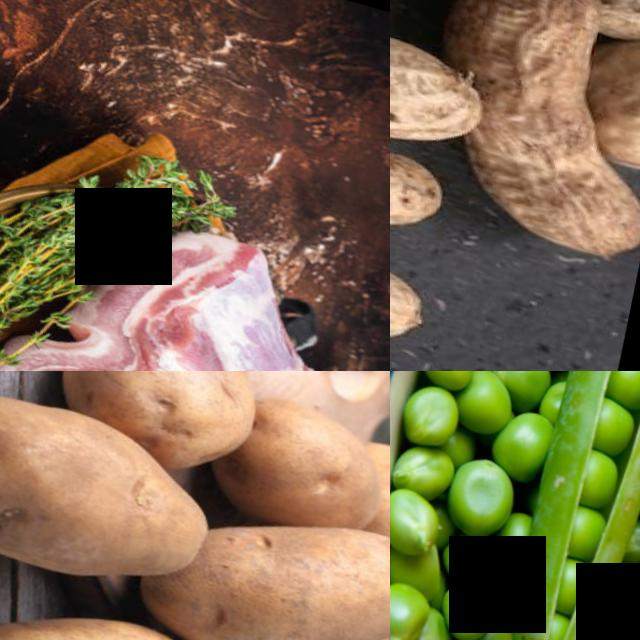peanuts: (456, 123, 640, 264), (446, 0, 615, 102), (390, 76, 458, 259)
peas: (390, 371, 606, 640), (533, 371, 640, 640)
pork belly: (56, 204, 340, 371)
potato: (0, 371, 226, 603), (152, 474, 390, 640), (231, 379, 390, 533), (54, 371, 274, 454), (0, 577, 241, 640)
